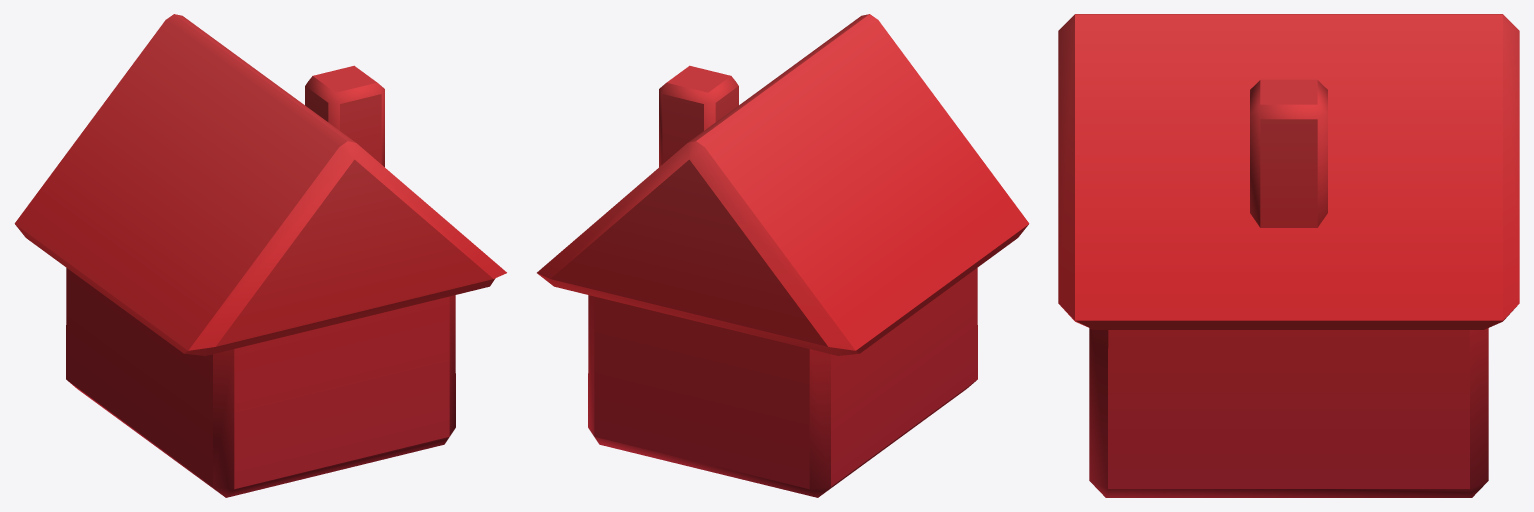
The model's file is building_red.obj.
The picture shows the model from 3 angles, left to right: view 1: azimuth 30°, elevation 25°; view 2: azimuth 150°, elevation 25°; view 3: azimuth 270°, elevation 25°; orthographic projection. The views are drawn at different scales.
Visible parts, largest first — view 1: building_red; view 2: building_red; view 3: building_red.
Boxes of the visible parts, x1,y1,x2,y2 form: building_red: (14, 14, 506, 497); building_red: (537, 14, 1029, 497); building_red: (1058, 14, 1519, 497).
Bounding box in the file's own units: 0.9847 × 1 × 1.
Materials: 1 (1 with a texture image).
